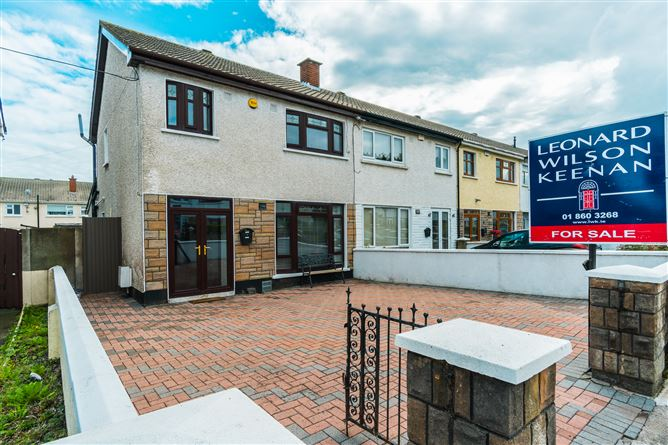property sign: (518, 111, 668, 274)
